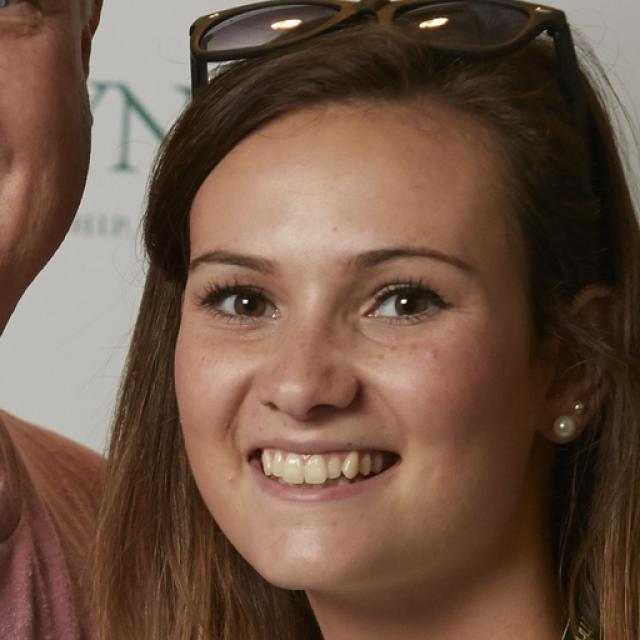Acne: (420, 348, 440, 364)
